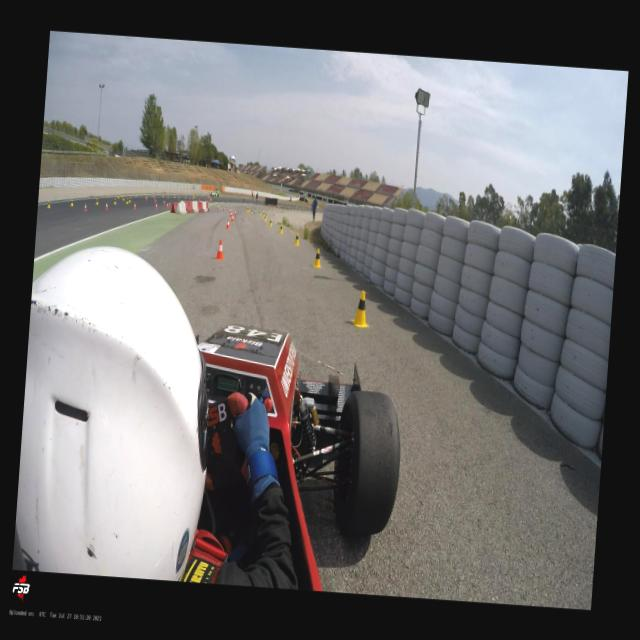orange_cone: (214, 238, 225, 260), (225, 219, 230, 229), (83, 202, 88, 212), (132, 202, 137, 210), (104, 202, 109, 210), (230, 213, 234, 222), (154, 202, 157, 209), (222, 206, 225, 212), (144, 196, 148, 200), (224, 203, 227, 208), (234, 209, 236, 216), (230, 210, 232, 217), (168, 200, 170, 207), (154, 198, 156, 204), (166, 202, 168, 208), (163, 200, 165, 206), (216, 204, 218, 209), (229, 207, 231, 212)
yellow_cone: (349, 289, 371, 328), (312, 247, 322, 268), (292, 232, 300, 244), (278, 223, 283, 233), (46, 200, 52, 208), (94, 197, 100, 204), (268, 218, 272, 226), (70, 199, 74, 206), (116, 193, 120, 198), (125, 197, 128, 203), (128, 196, 131, 202), (264, 214, 266, 221), (114, 198, 116, 205), (246, 207, 248, 213), (258, 210, 260, 216), (245, 206, 247, 212), (122, 194, 124, 200), (250, 209, 252, 214), (254, 206, 256, 211), (262, 207, 264, 212), (120, 192, 122, 197), (262, 212, 264, 216), (248, 206, 250, 210), (134, 192, 136, 196)
